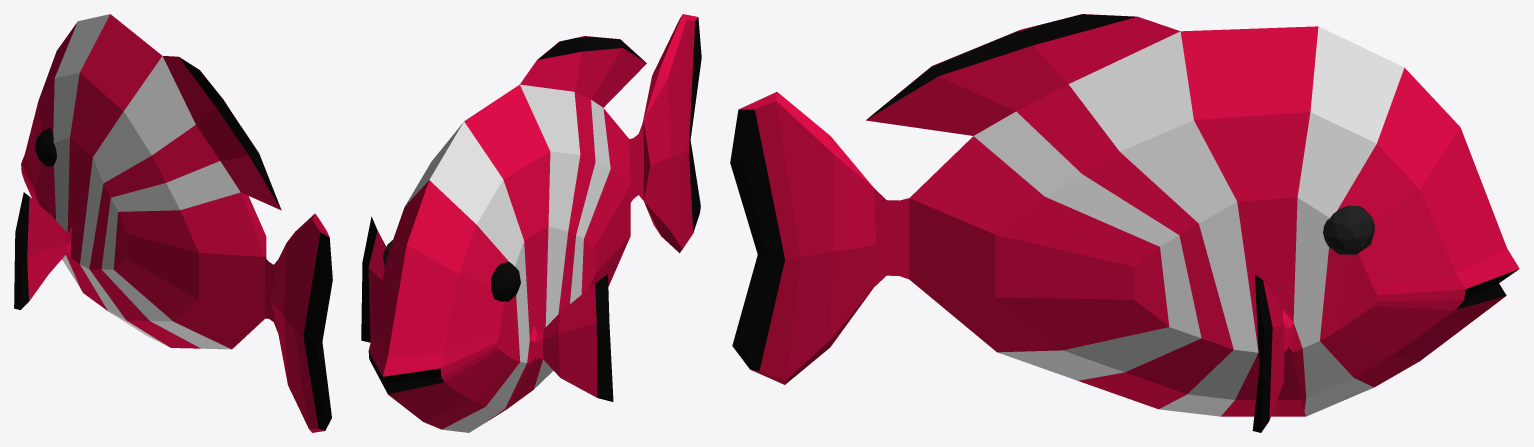
The model's file is fish4.fbx.
3 renders of one model, left to right at view 1: azimuth 30°, elevation 25°; view 2: azimuth 150°, elevation 25°; view 3: azimuth 270°, elevation 25°, orthographic. The views are drawn at different scales.
Visible parts, largest first — view 1: Plane, Icosphere.001; view 2: Plane, Icosphere.001; view 3: Plane, Icosphere.
Boxes of the visible parts, x1=… form: Plane: x1=14, y1=14, x2=332, y2=432; Icosphere.001: x1=35, y1=128, x2=56, y2=166; Plane: x1=361, y1=14, x2=701, y2=432; Icosphere.001: x1=491, y1=262, x2=520, y2=301; Plane: x1=730, y1=14, x2=1519, y2=432; Icosphere: x1=1323, y1=205, x2=1374, y2=254.
Bounding box in the file's own units: 160 × 197 × 350.
